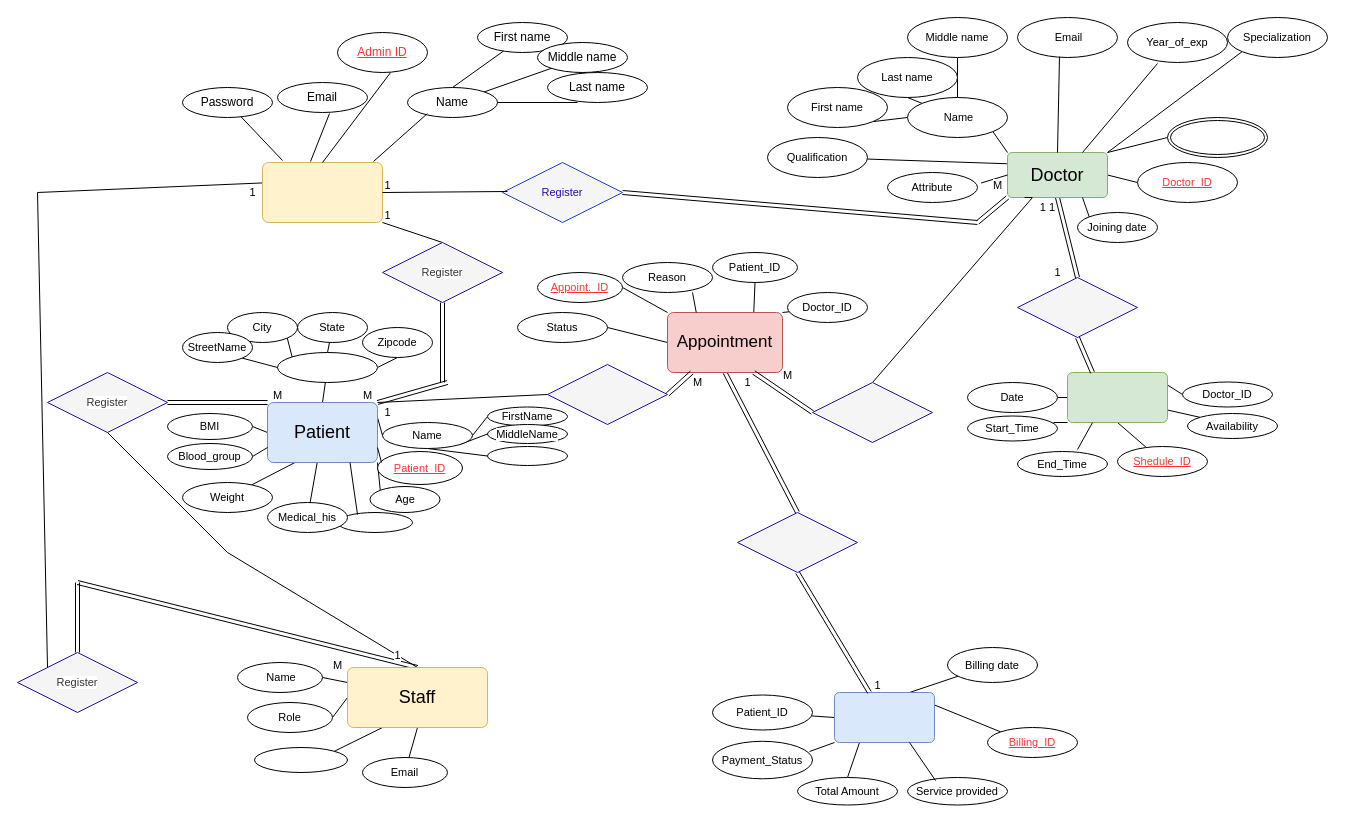
This 1345x823 diagram has some shape labels left out. Here are the shapes that lost their labels. From the top down, the centre of each, then its label:
At (1217,137): "Phone no".
At (322,192): "Admin".
At (1077,307): "Have".
At (327,367): "Address".
At (607,394): "Booked".
At (872,412): "Took".
At (1117,397): "Shedule".
At (527,456): "LastName".
At (374,522): "Gender".
At (797,542): "Generate".
At (884,717): "Billing".
At (301,759): "Staff_ID".
